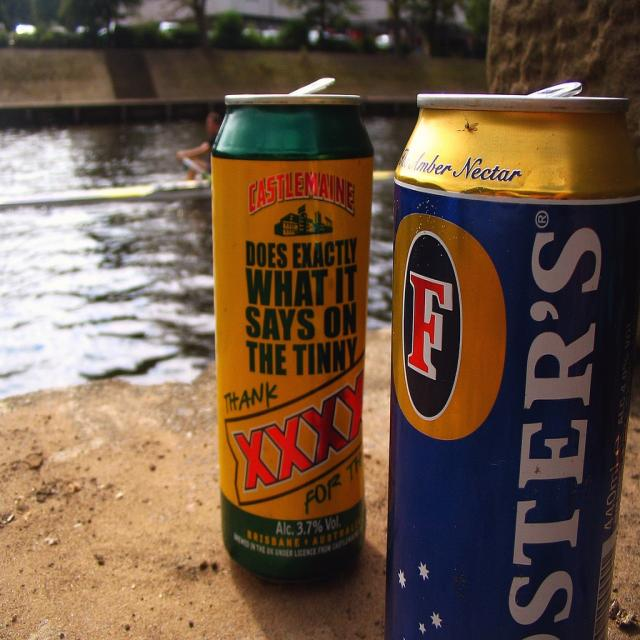fosters: (392, 211, 511, 444)
